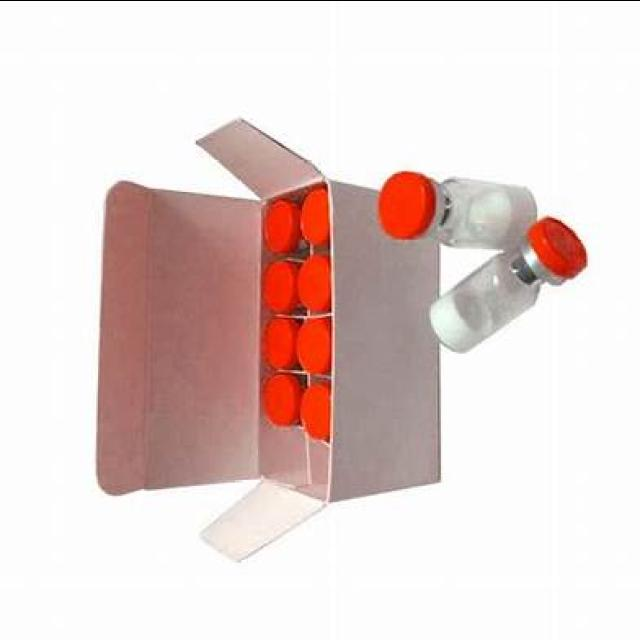vial: (374, 163, 426, 239), (523, 218, 575, 288), (252, 369, 300, 432), (256, 189, 298, 252), (262, 310, 296, 376), (262, 256, 298, 318), (296, 180, 329, 243), (300, 254, 334, 312), (297, 384, 336, 433), (296, 321, 327, 376)
